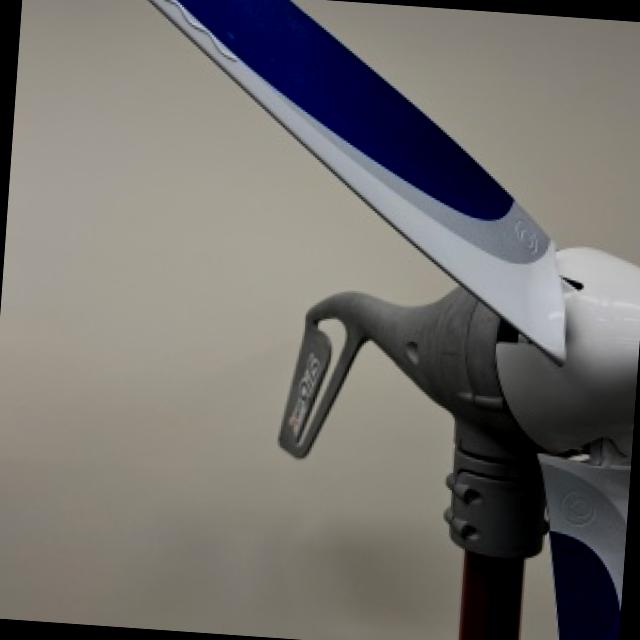healthy: (0, 0, 464, 640), (159, 0, 565, 354)
